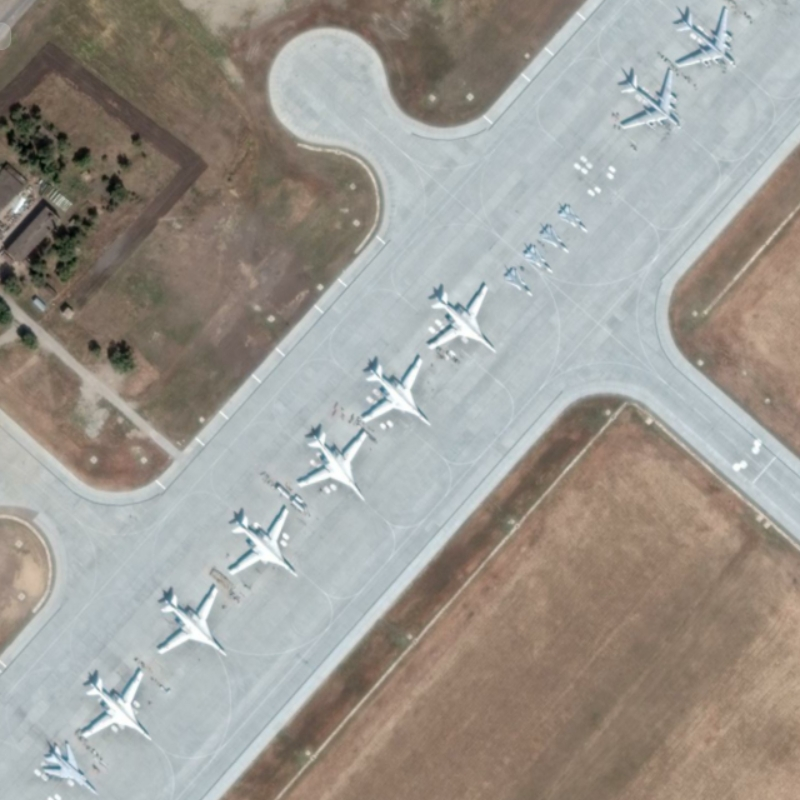A12: (40, 739, 102, 796)
A17: (615, 66, 683, 133), (673, 4, 739, 70)
A20: (556, 203, 592, 235), (536, 222, 571, 254), (502, 264, 535, 297), (521, 243, 554, 274)
A6: (77, 663, 154, 744), (152, 583, 230, 661), (294, 427, 370, 505), (422, 280, 500, 355), (359, 352, 434, 430), (226, 505, 299, 581)
